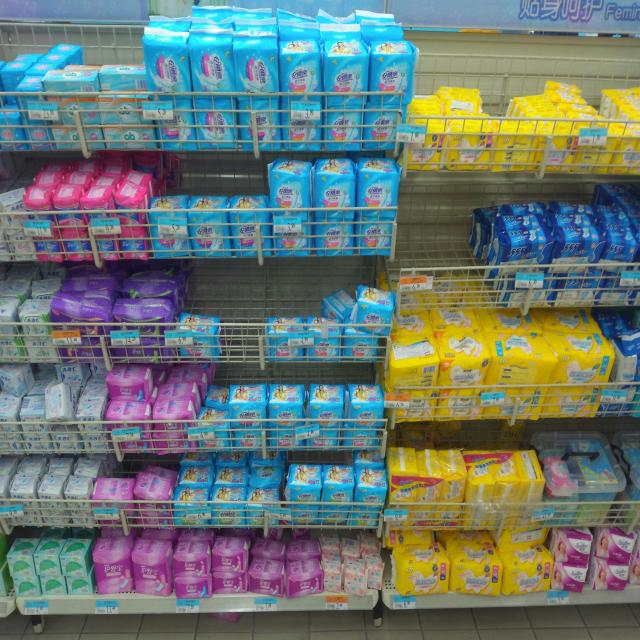empty: (402, 206, 483, 307), (223, 282, 262, 353)
